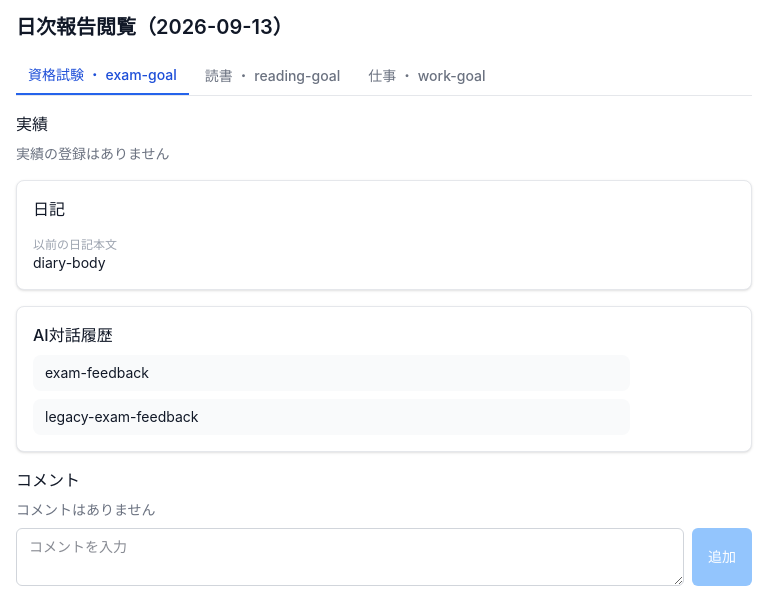
Scenario: DailyReportViewPage › shows the diary only while the exam tab is selected
The width and height of the screenshot is (769, 603).
Expected: the heading "日記" is shown, x1=33 y1=199 x2=65 y2=219
Click the button "読書 ・ reading-goal".
click(272, 76)  # box x1=193 y1=57 x2=352 y2=95
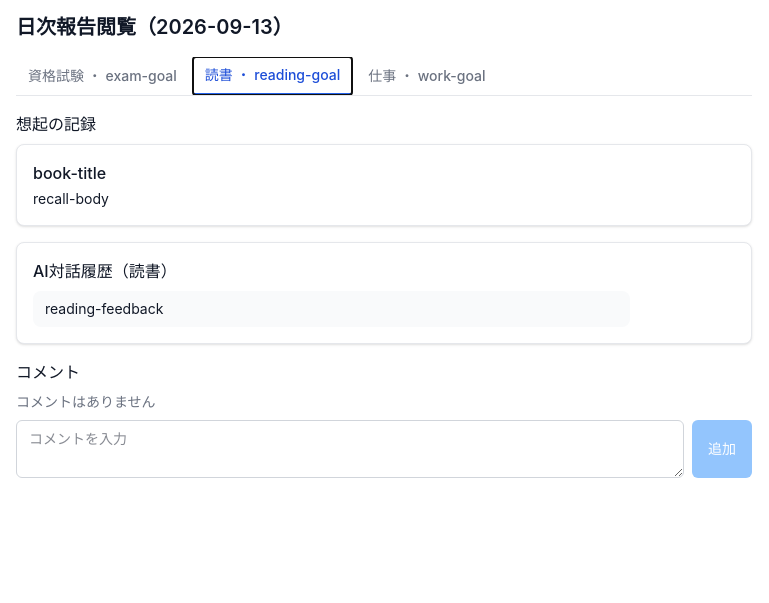
Expected: the heading "日記" is gone
